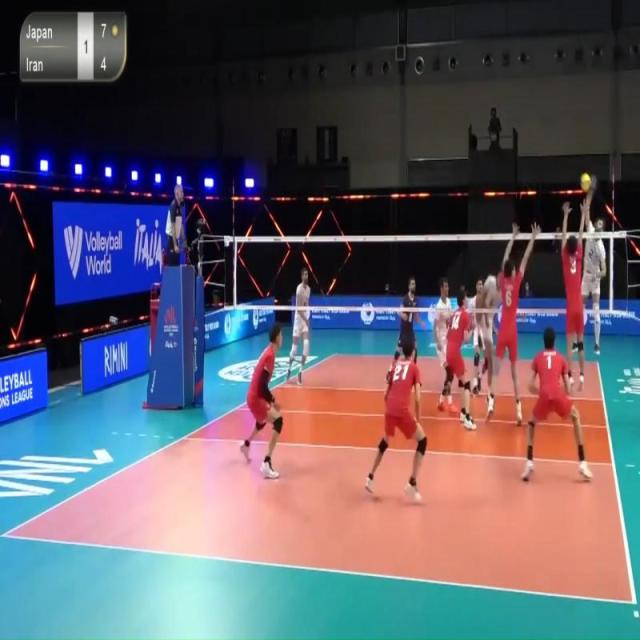volleyball: (580, 173, 590, 192)
